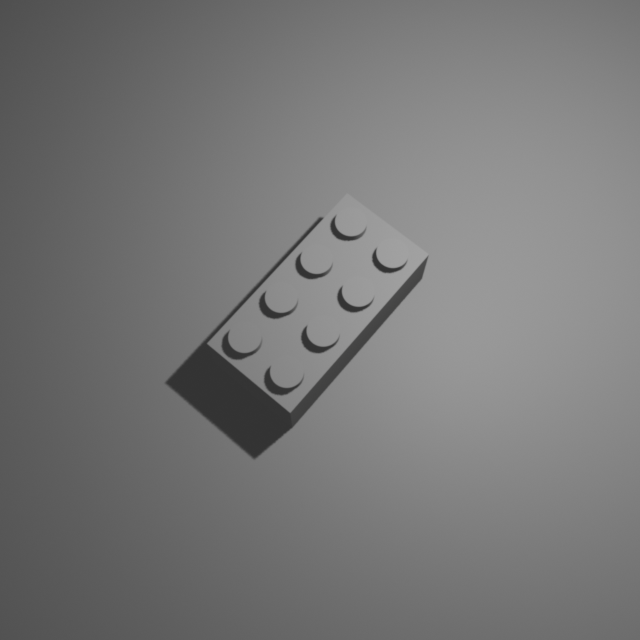lego_2x4: (206, 188, 430, 428)
